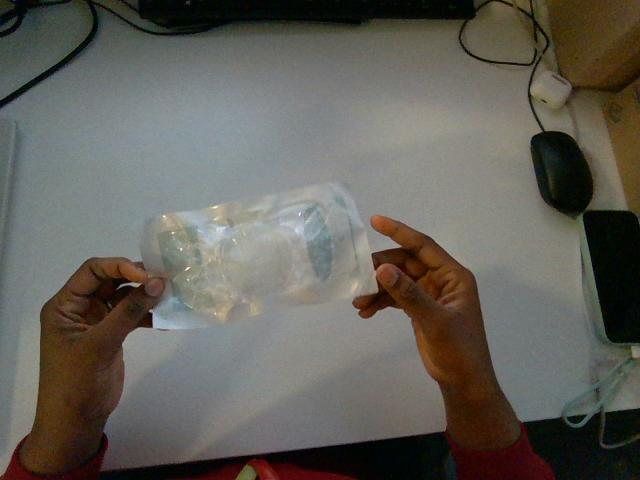gallipot: (141, 183, 376, 328)
